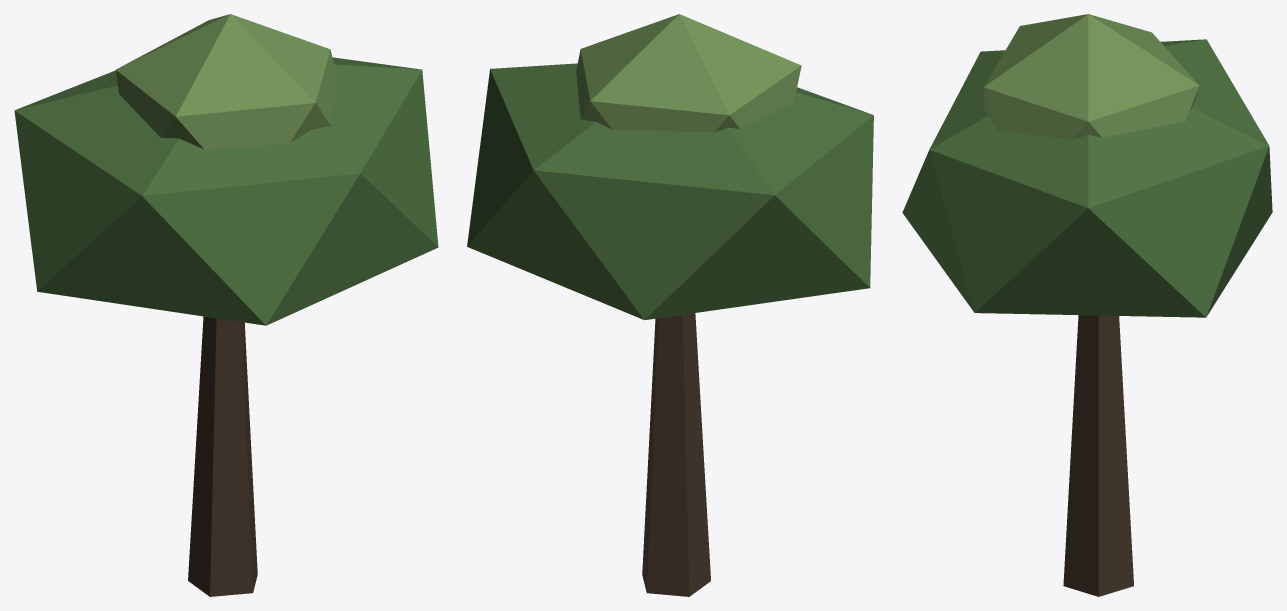
File: tree_oak_big_lod2.glb
3 renders of one model, left to right at view 1: azimuth 30°, elevation 25°; view 2: azimuth 150°, elevation 25°; view 3: azimuth 270°, elevation 25°, orthographic.
Parts seen in each view (by area): view 1: tree_oak_big_lod2; view 2: tree_oak_big_lod2; view 3: tree_oak_big_lod2.
Part boxes in pixels (x1,y1,x2,y2): tree_oak_big_lod2: (14,14,438,596); tree_oak_big_lod2: (467,14,873,596); tree_oak_big_lod2: (902,14,1272,596).
Size of what is drawn, in the model's own units: 4.27 by 6.06 by 3.58.
1 material, 1 textured.
